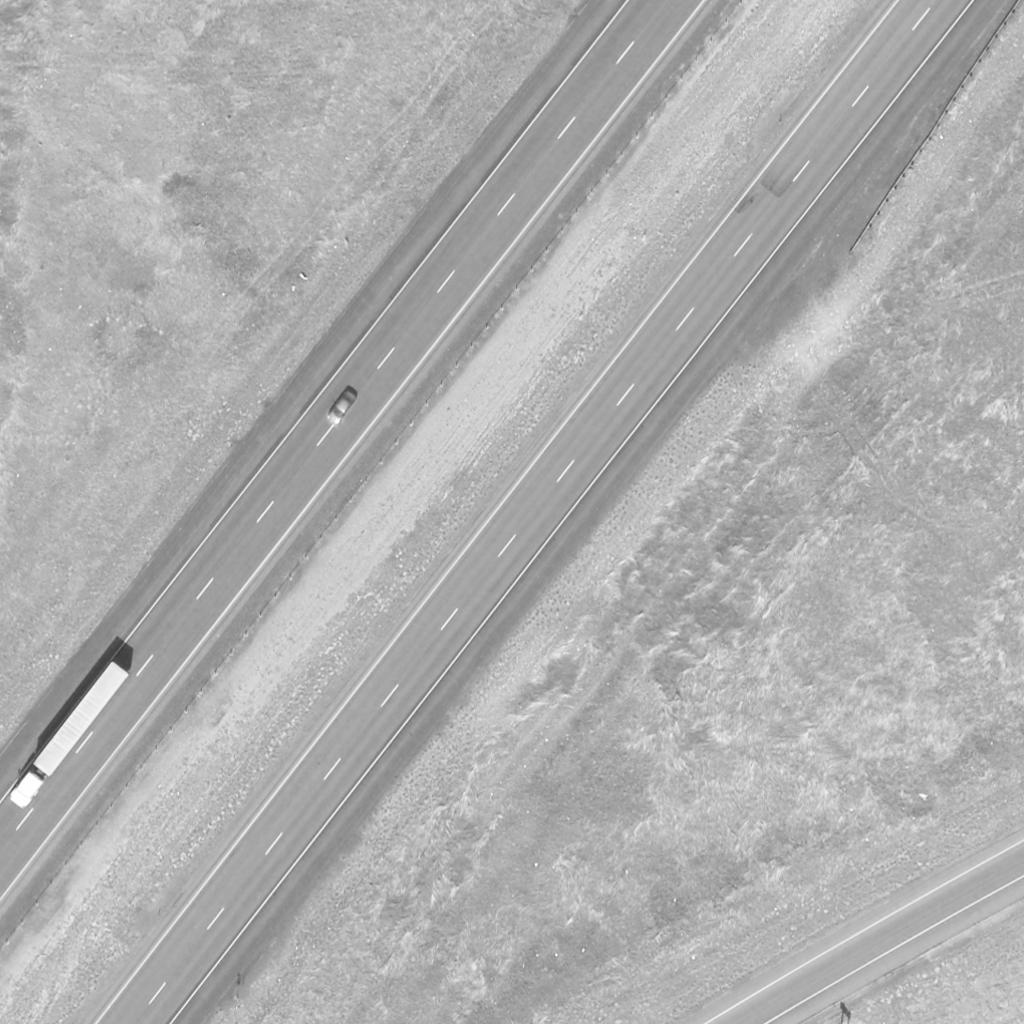vehicle: (6, 662, 132, 812), (326, 389, 358, 427)
